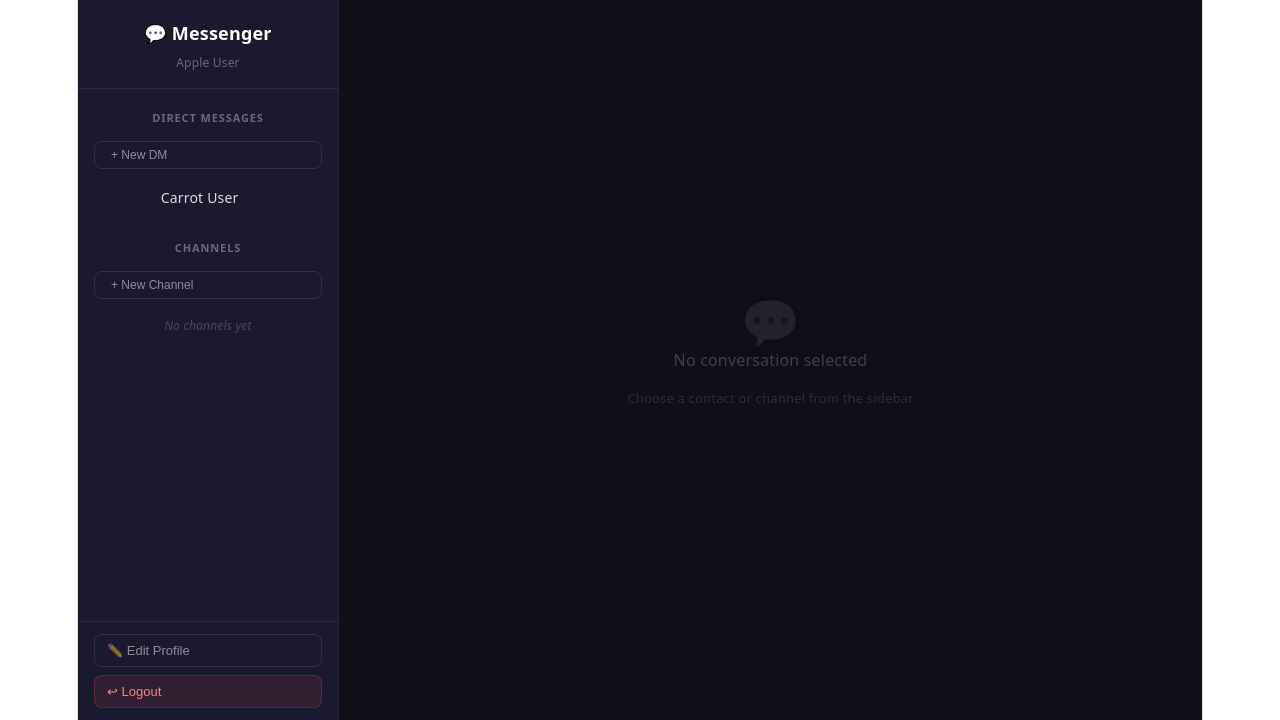
Test: Security Tests › XSS: HTML link tag in message is rendered as plain text
Click the text "Carrot User".
click(200, 198)  # box [161,188,239,207]
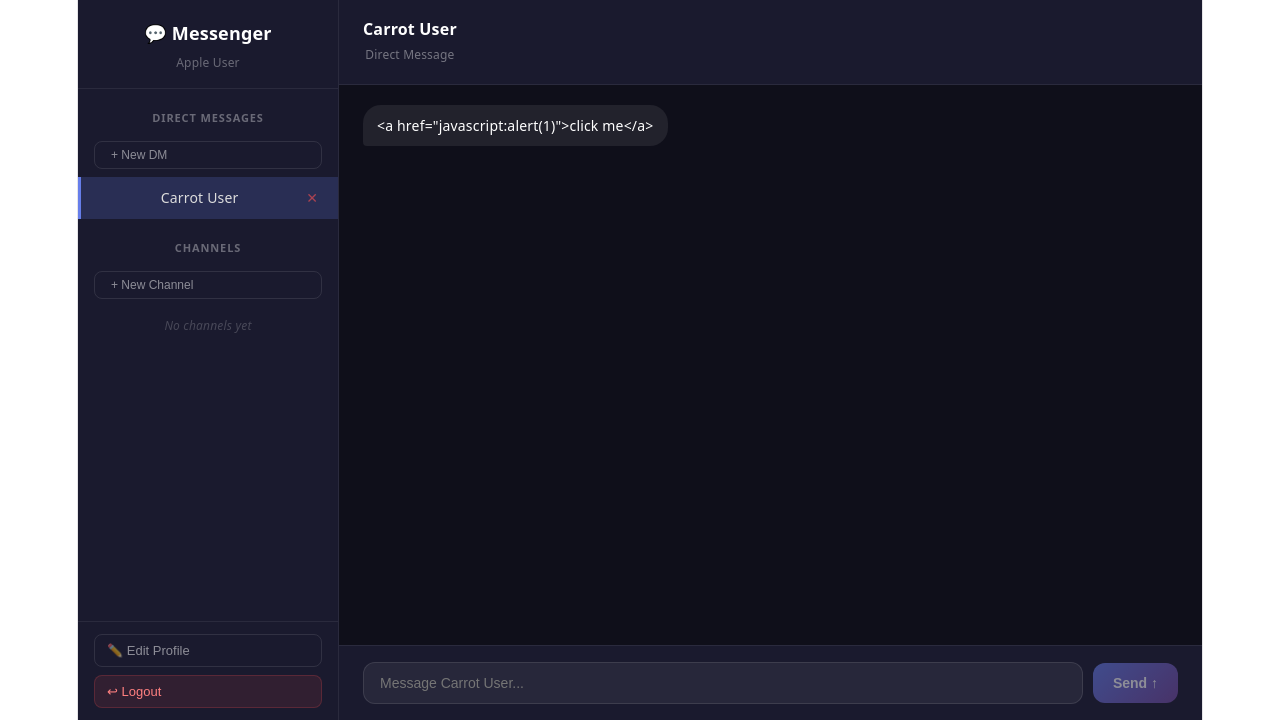
expect the text "<a href=\"javascript:alert(1)\">click me</a>" is shown: met, box [363,105,668,146]
